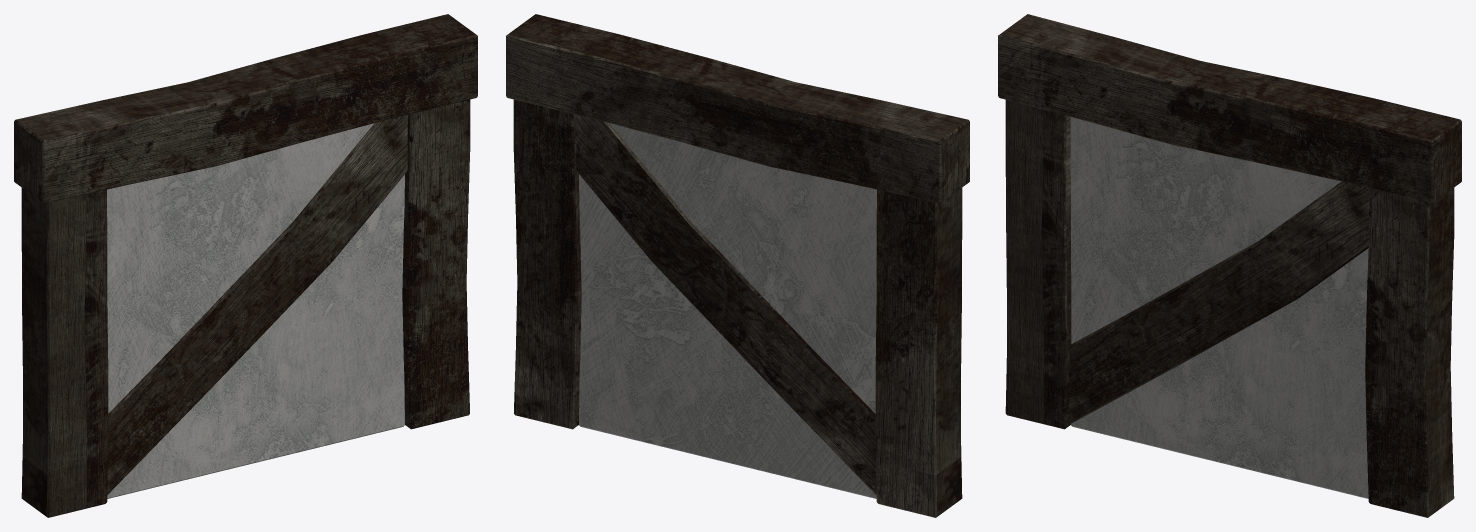
The model's file is TudorWall7.fbx.
3 views of the same model, side by side, from view 1: azimuth 30°, elevation 25°; view 2: azimuth 150°, elevation 25°; view 3: azimuth 330°, elevation 25° (orthographic).
Visible parts, largest first — view 1: White Wall Angle 2m; view 2: White Wall Angle 2m; view 3: White Wall Angle 2m.
Boxes of the visible parts, x1,y1,x2,y2 form: White Wall Angle 2m: (14,14,477,517); White Wall Angle 2m: (506,14,969,517); White Wall Angle 2m: (998,14,1461,517).
Bounding box in the file's own units: 288 × 240 × 34.19.
